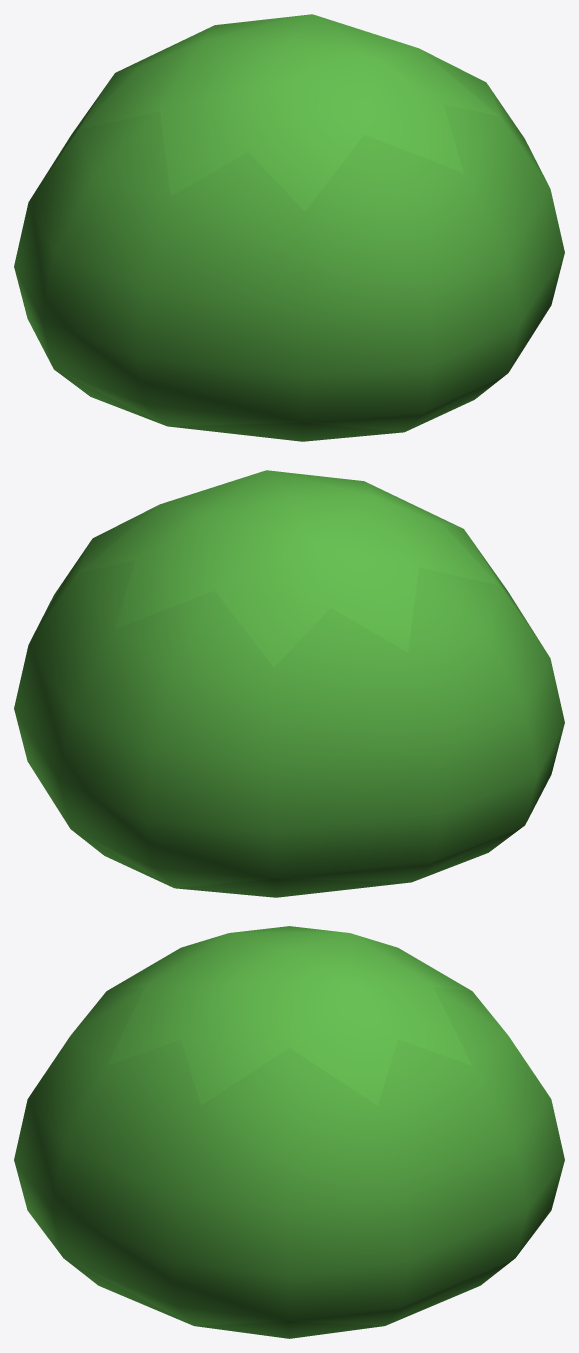
Rendered from plant_bush_1.glb.
3 renders of one model, top to bottom at view 1: azimuth 30°, elevation 25°; view 2: azimuth 150°, elevation 25°; view 3: azimuth 270°, elevation 25°, orthographic. The views are drawn at different scales.
Visible parts, largest first — view 1: plant_bush_1; view 2: plant_bush_1; view 3: plant_bush_1.
Part boxes in pixels (x1,y1,x2,y2): plant_bush_1: (14, 14, 564, 441); plant_bush_1: (14, 470, 564, 897); plant_bush_1: (14, 926, 564, 1338).
Bounding box in the file's own units: 1.8 × 1.14 × 1.8.
